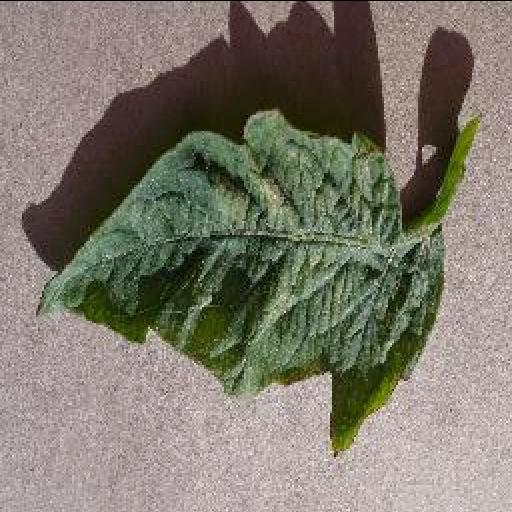disease_tomato: (32, 104, 442, 458)
